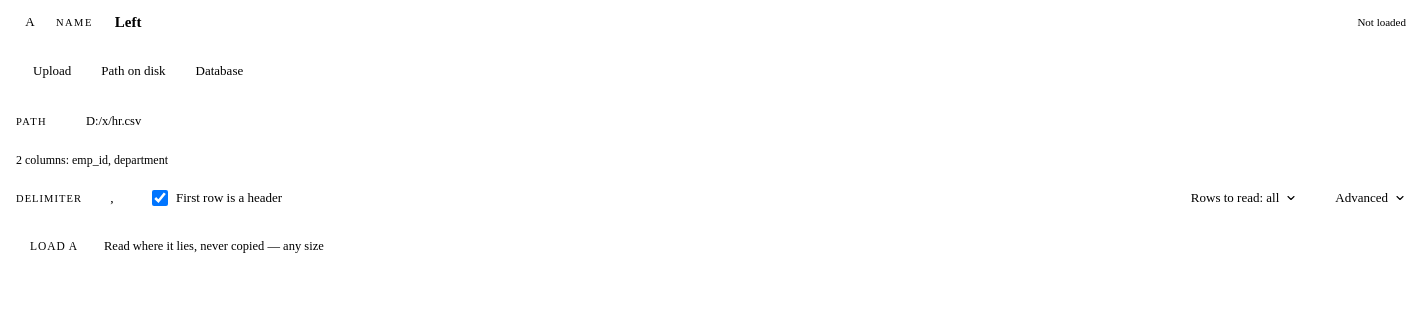
it: a Load the server refuses turns the pill to Error and says why
The width and height of the screenshot is (1423, 320).
What coordinates should you click on to do the following:
click the button "Load A"
I would click on:
 (54, 246)
Its box is x1=16 y1=228 x2=92 y2=264.
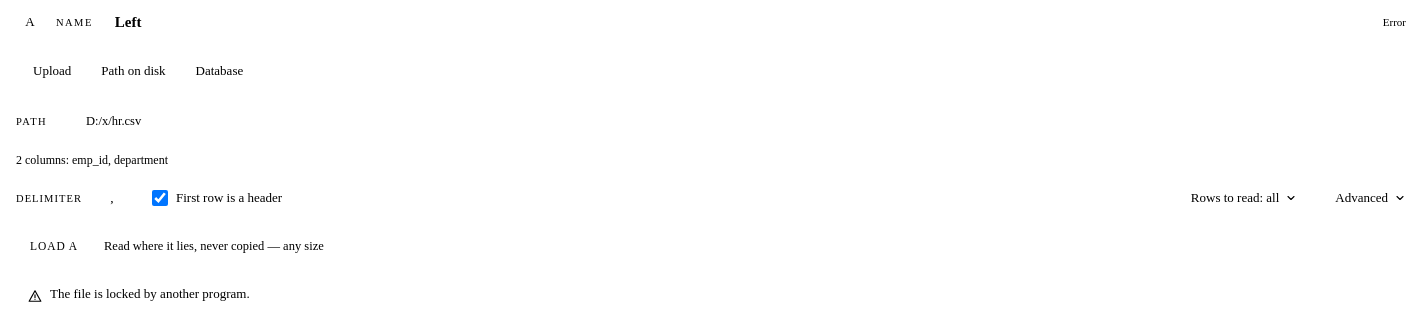
Now the text "The file is locked by another program." is shown, box x1=28 y1=286 x2=250 y2=303
Now the message reads "Error", box x1=1383 y1=16 x2=1406 y2=28
